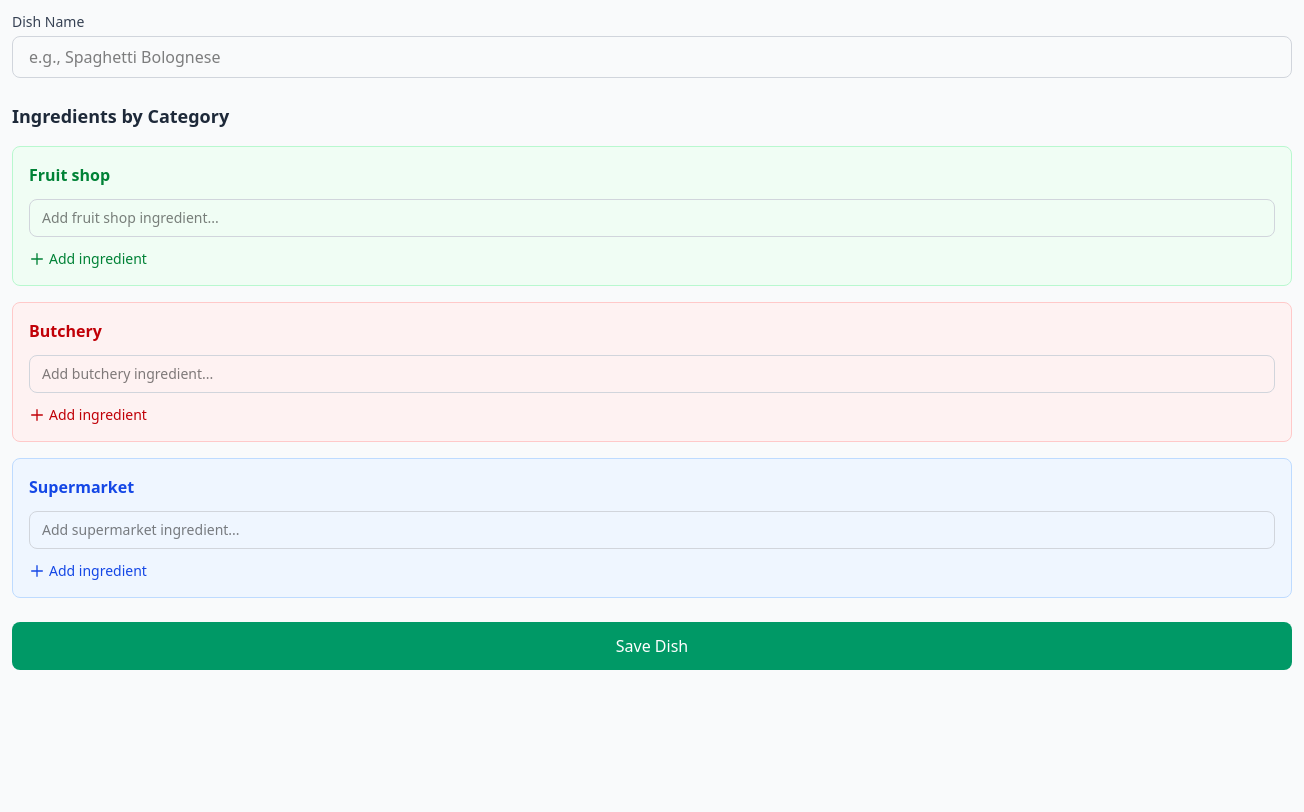
CreateDishForm › validation › shows error for duplicate dish name
In the field labelled "Dish Name": (652, 57) [12,36,1292,78], type "Existing Dish"
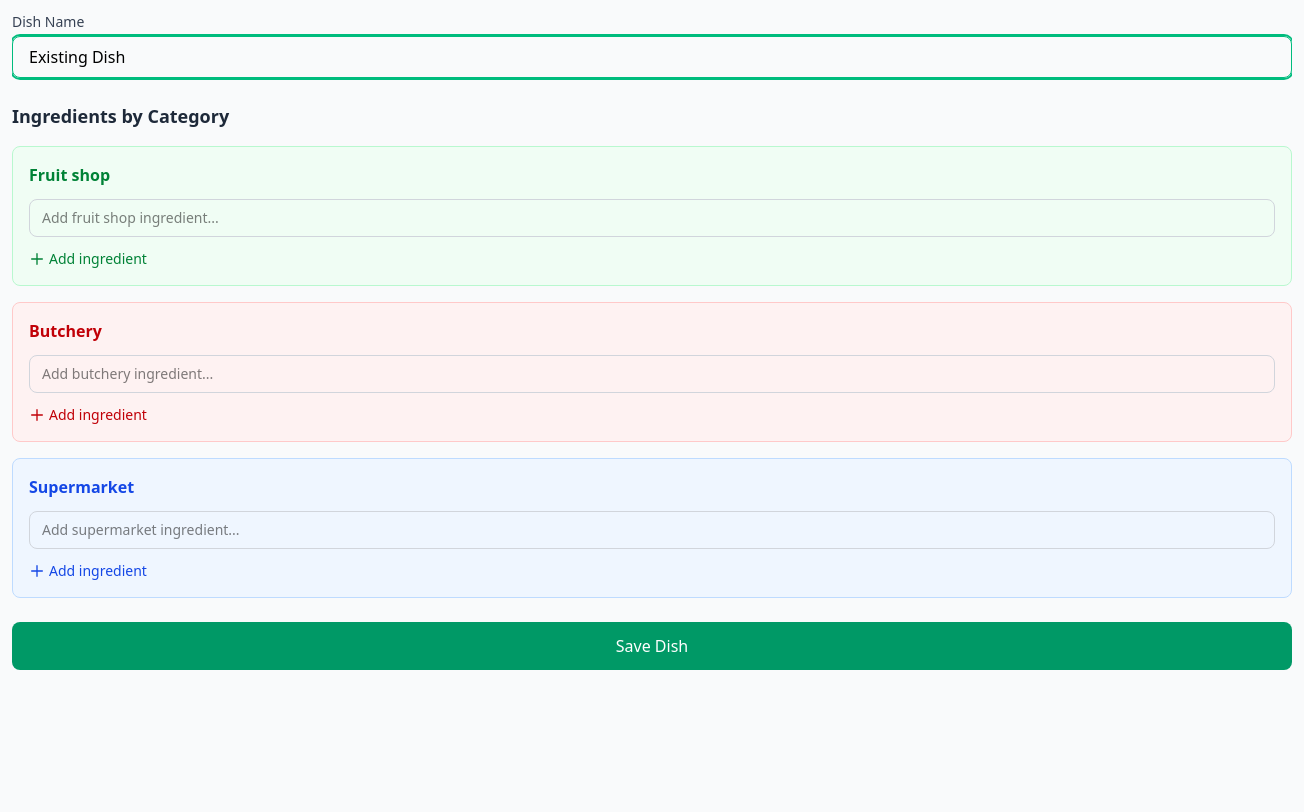
In the field with placeholder "Add fruit shop ingredient...": (652, 218) [29,199,1275,237], type "Banana"
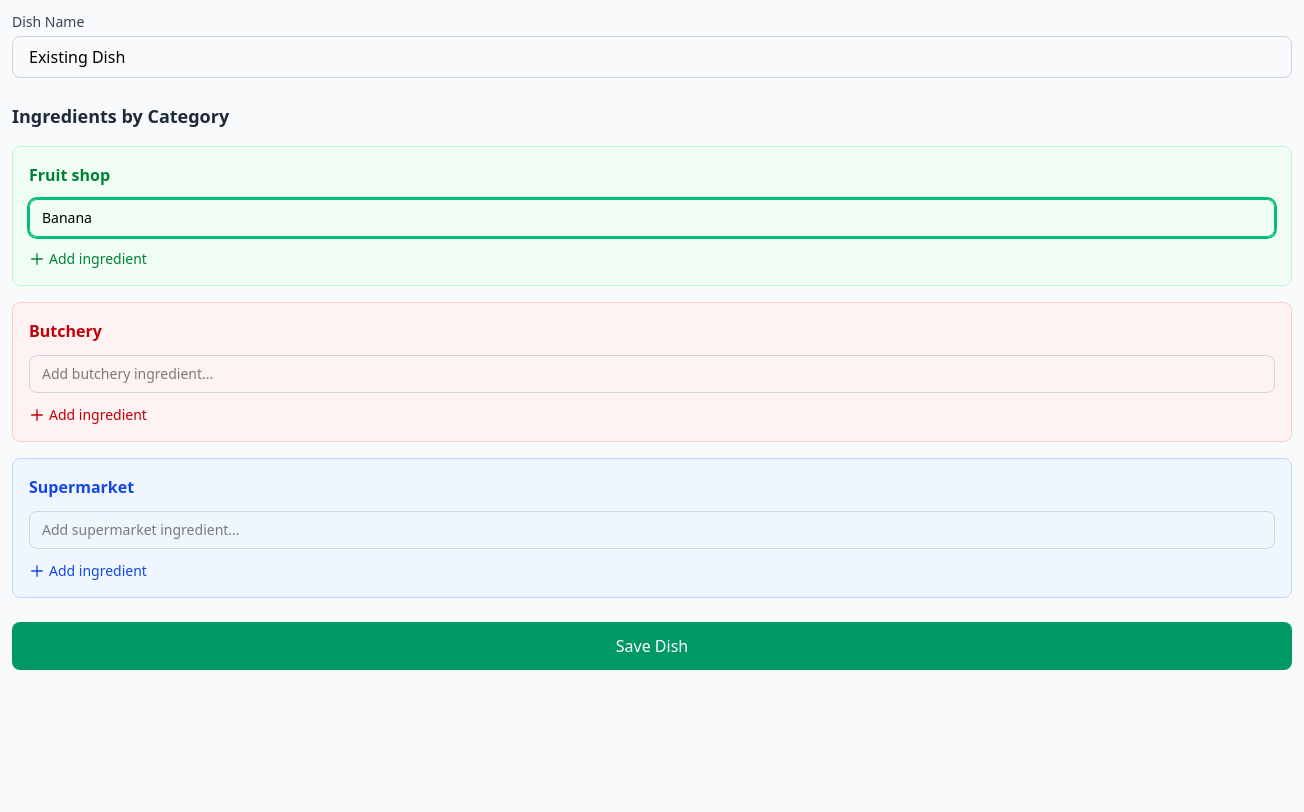
Click the button "Save Dish": (652, 646) [12,622,1292,670]
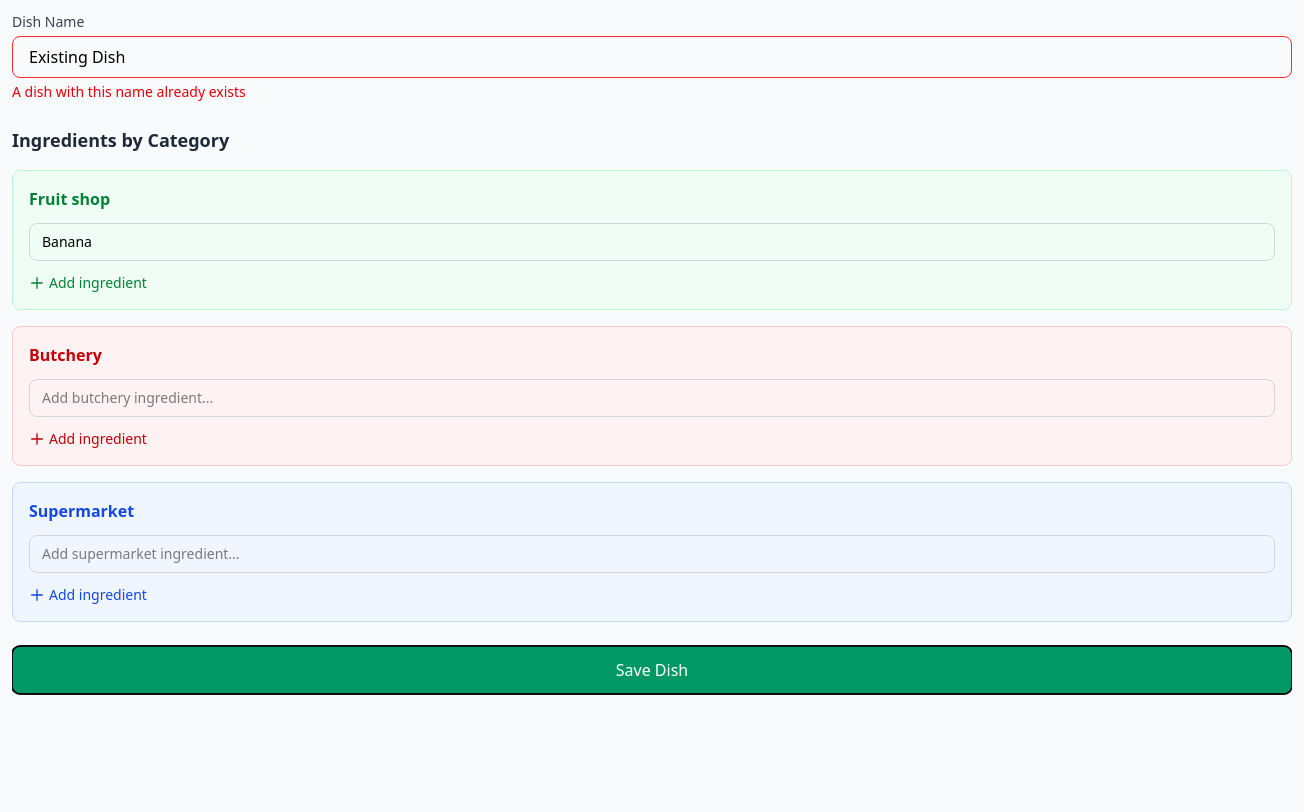
Check: the text "A dish with this name already exists" is shown, box [12,82,246,101]
